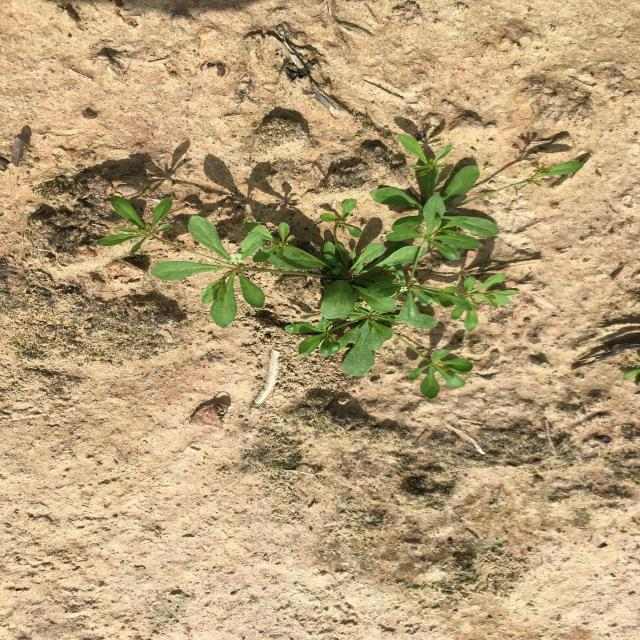Carpetweed: (95, 133, 584, 399)
